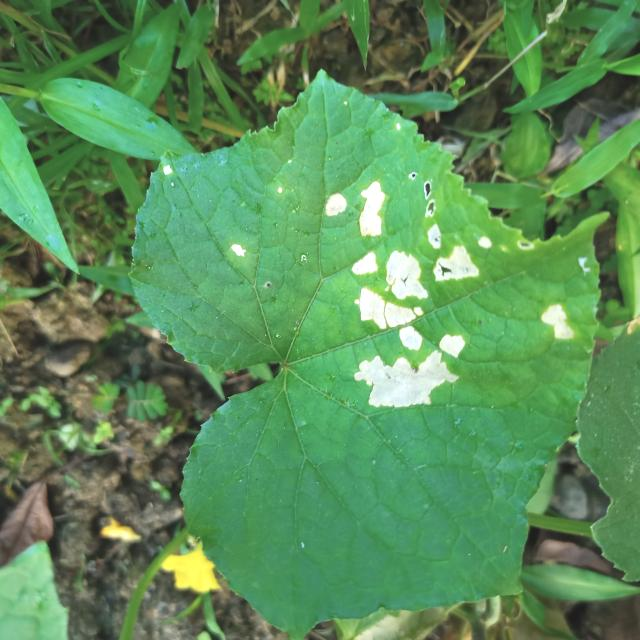disease_cucumber: (318, 164, 485, 412), (534, 287, 582, 349), (222, 235, 257, 265)
